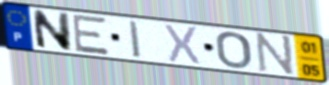E: (72, 13, 112, 57)
I: (127, 19, 144, 61)
N: (30, 8, 74, 53), (255, 31, 296, 78)
O: (214, 30, 253, 70)
X: (163, 23, 203, 67)
